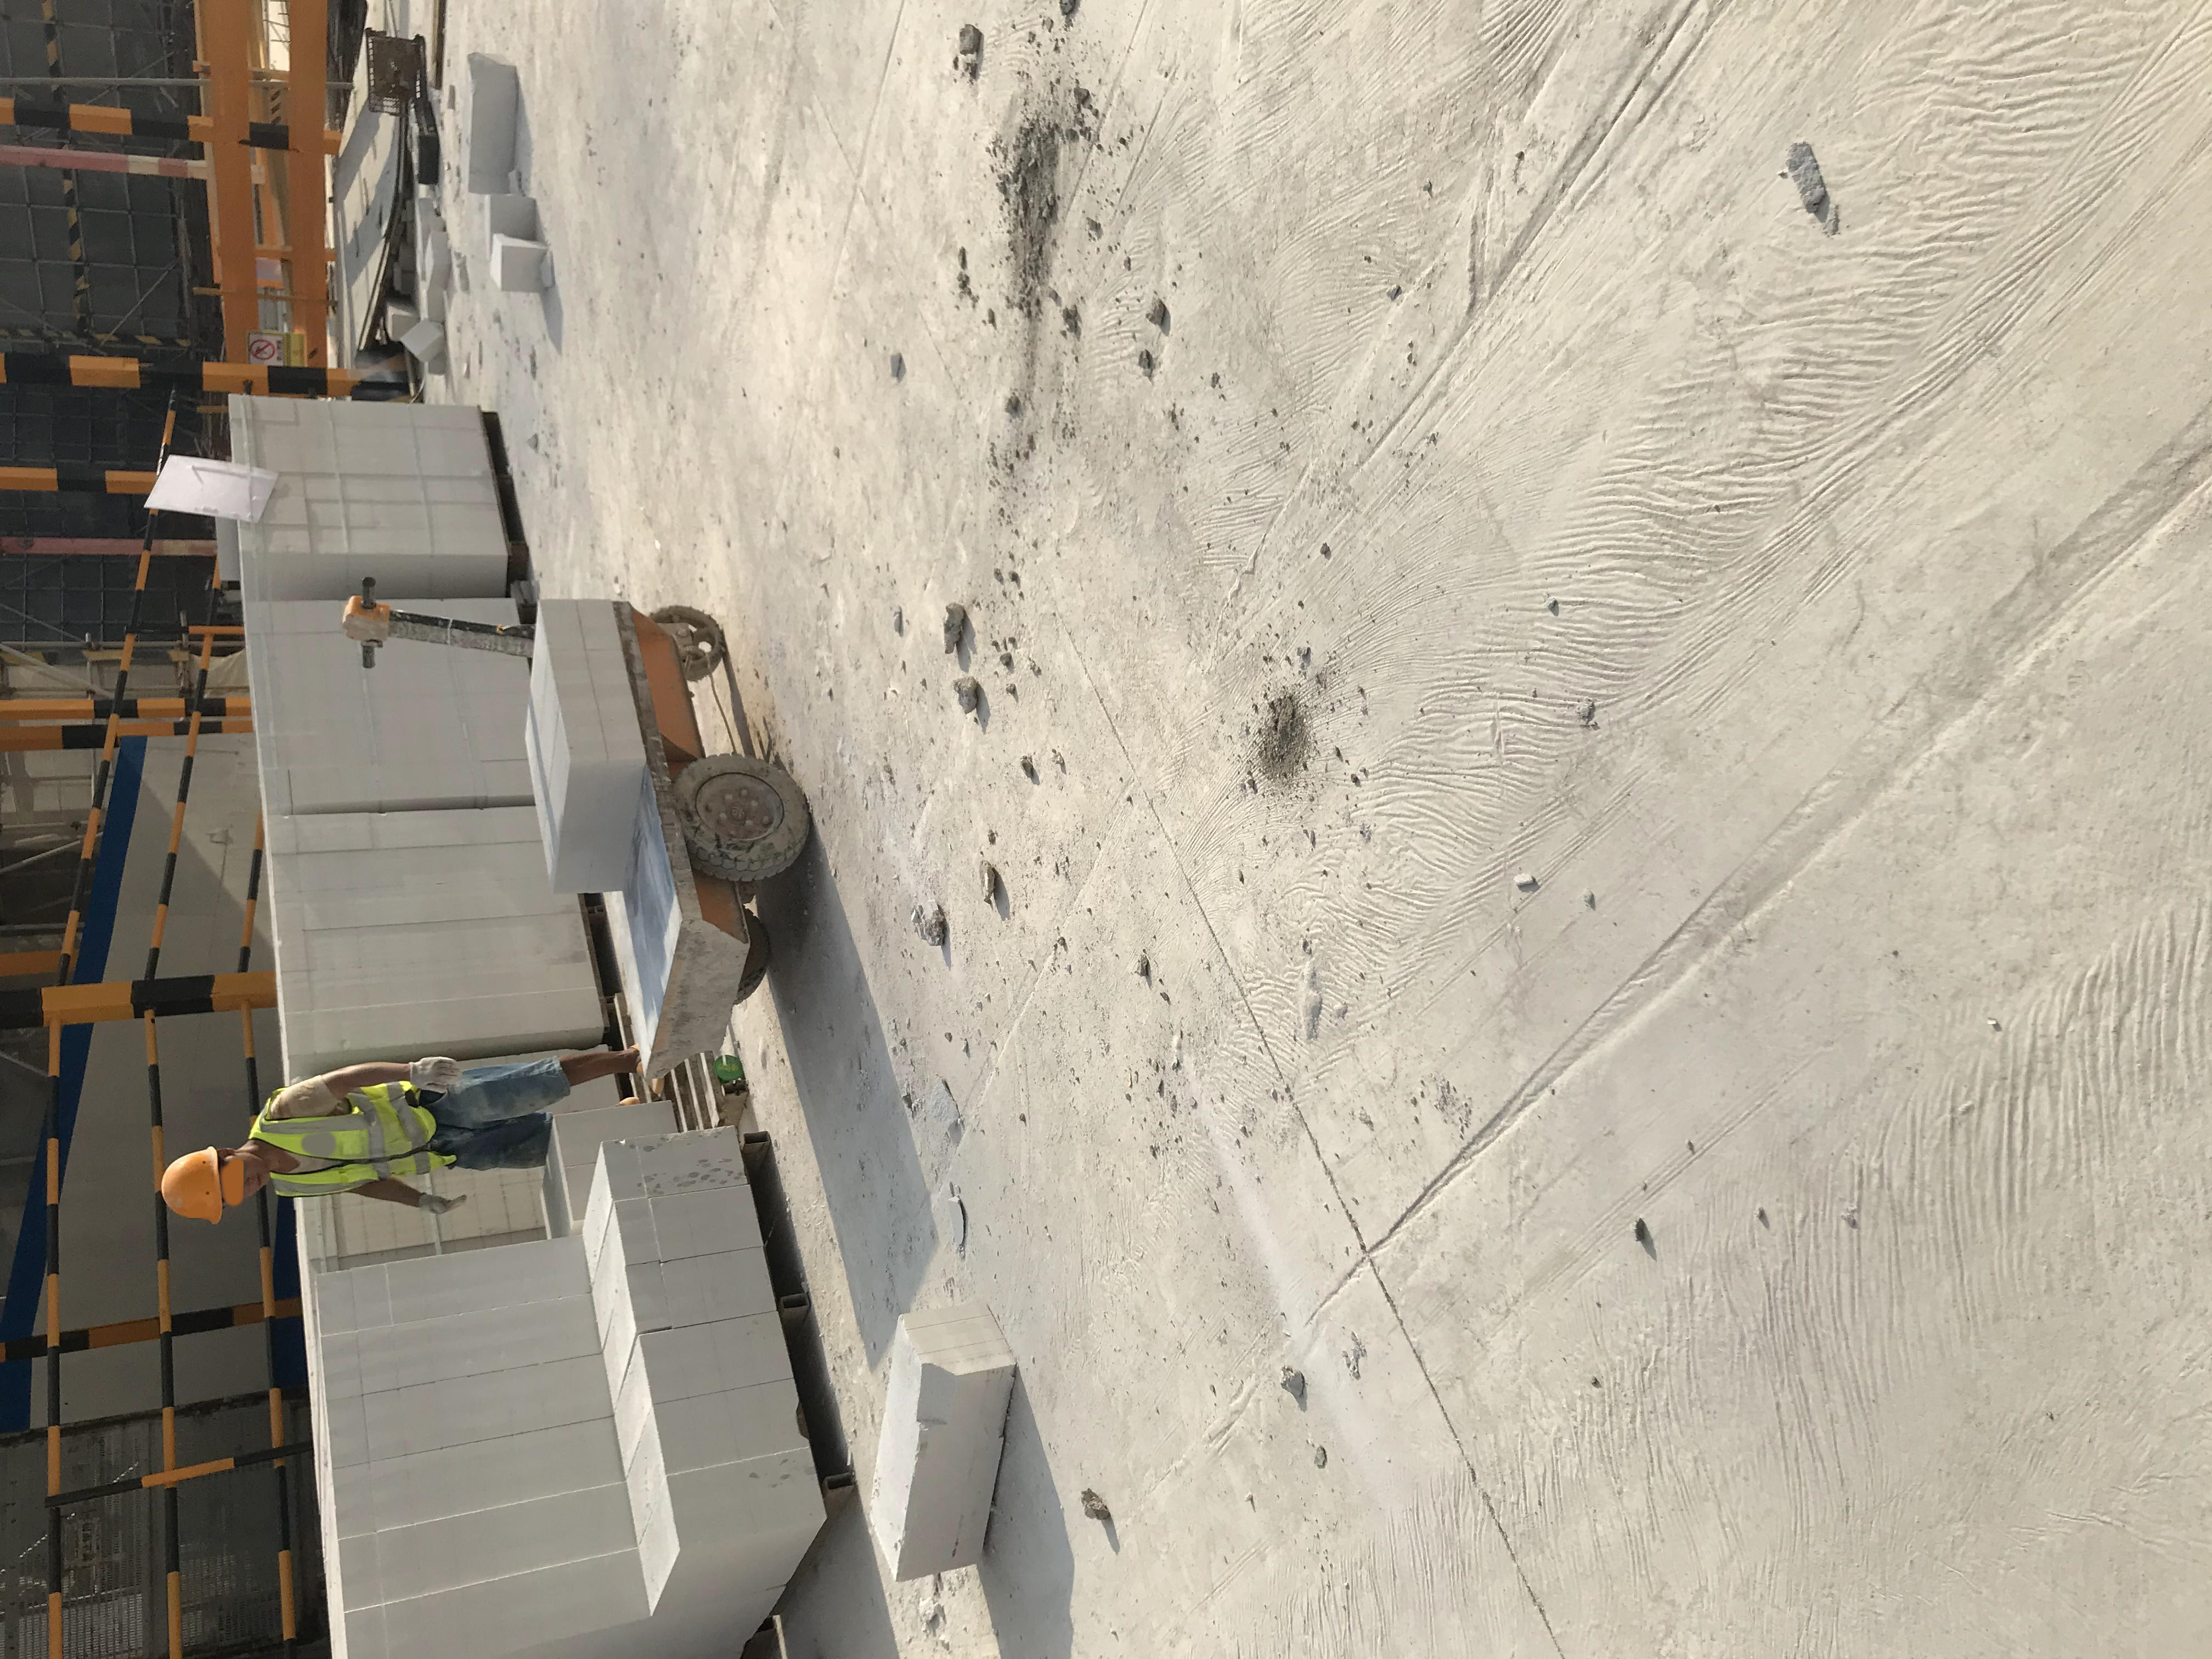brick: (221, 374, 825, 1659)
helmet: (162, 1146, 223, 1224)
person: (158, 1040, 645, 1223)
vest: (258, 1081, 444, 1197)
